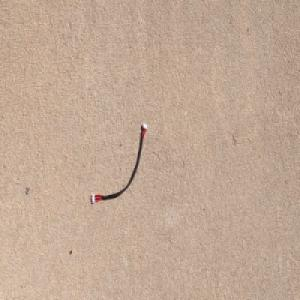Wire: (91, 121, 147, 205)
